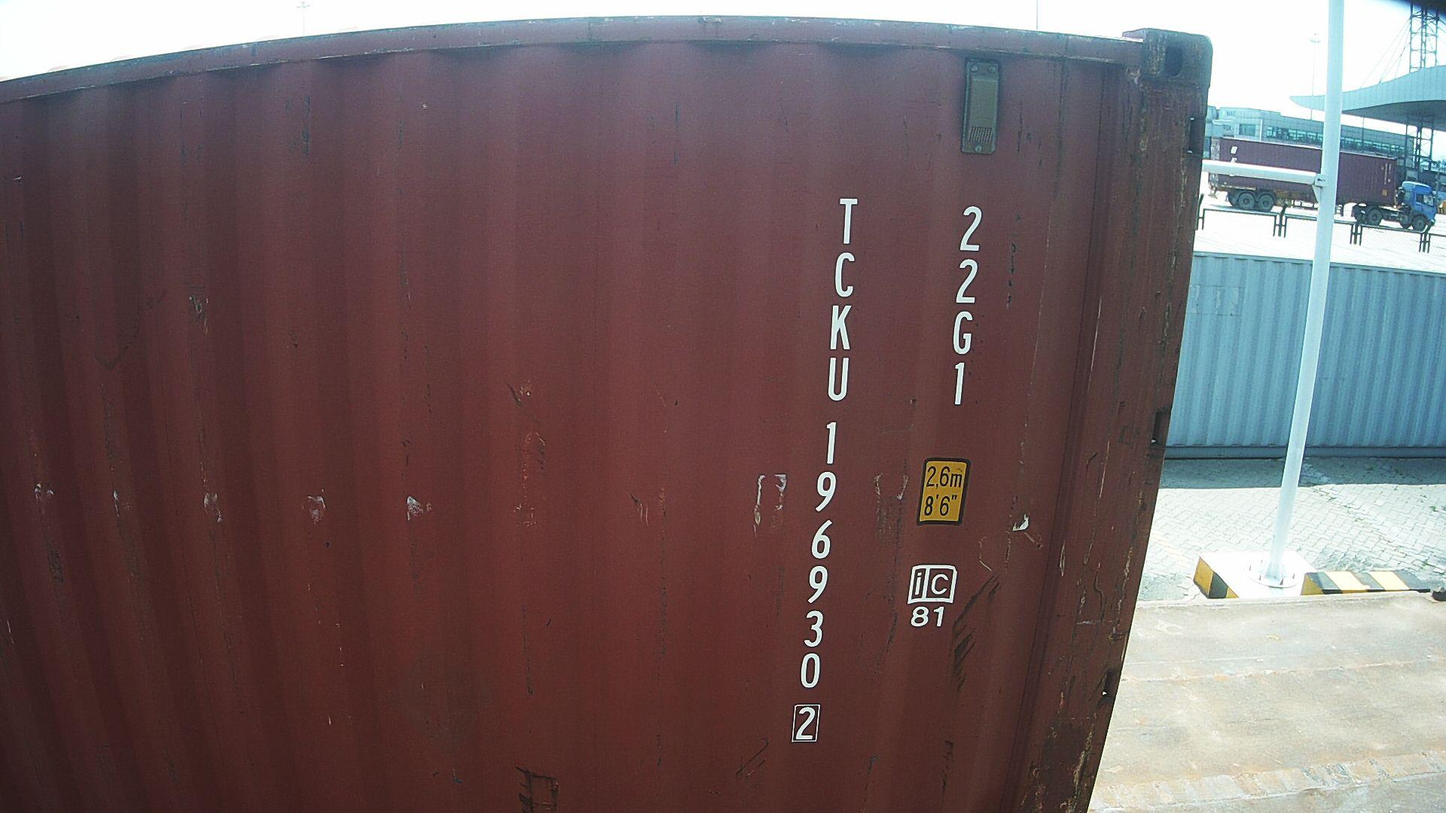container-numbers: (789, 192, 862, 746), (942, 201, 988, 410)
